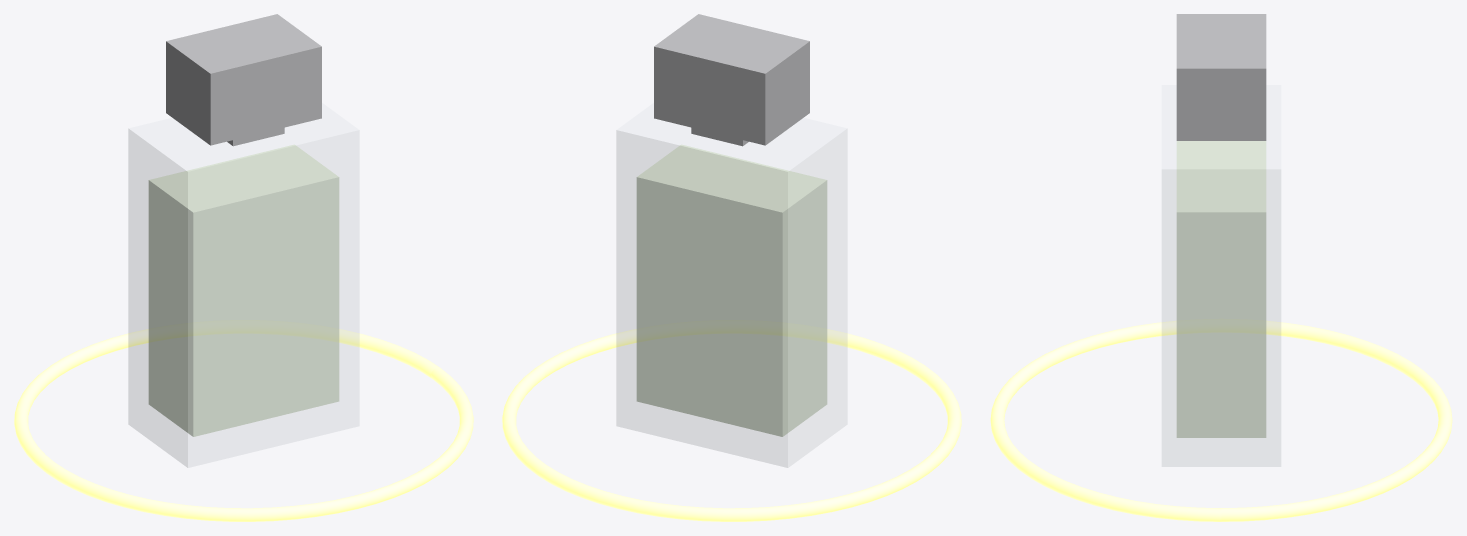
Rendered from lv-imagination.glb.
3 views of the same model, side by side, from view 1: azimuth 30°, elevation 25°; view 2: azimuth 150°, elevation 25°; view 3: azimuth 270°, elevation 25° (orthographic).
Parts seen in each view (by area): view 1: Bottle, Juice, Cap, Halo; view 2: Bottle, Juice, Cap, Halo; view 3: Bottle, Juice, Halo, Cap.
Boxes of the visible parts, <box> form: Bottle: <box>128,103,359,467</box>; Juice: <box>148,144,339,436</box>; Cap: <box>166,14,321,145</box>; Halo: <box>14,320,473,521</box>; Bottle: <box>616,103,847,467</box>; Juice: <box>636,144,827,436</box>; Cap: <box>654,14,809,145</box>; Halo: <box>502,320,961,521</box>; Bottle: <box>1162,85,1280,466</box>; Juice: <box>1176,141,1266,437</box>; Halo: <box>990,319,1452,521</box>; Cap: <box>1176,14,1266,140</box>.
Size of the model in its own units: 0.0928 by 0.0854 by 0.0928.
